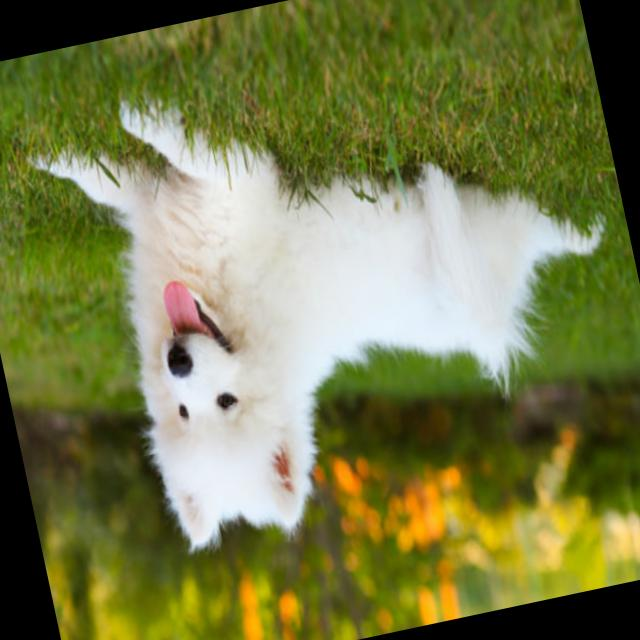dogs: (14, 2, 640, 570)
